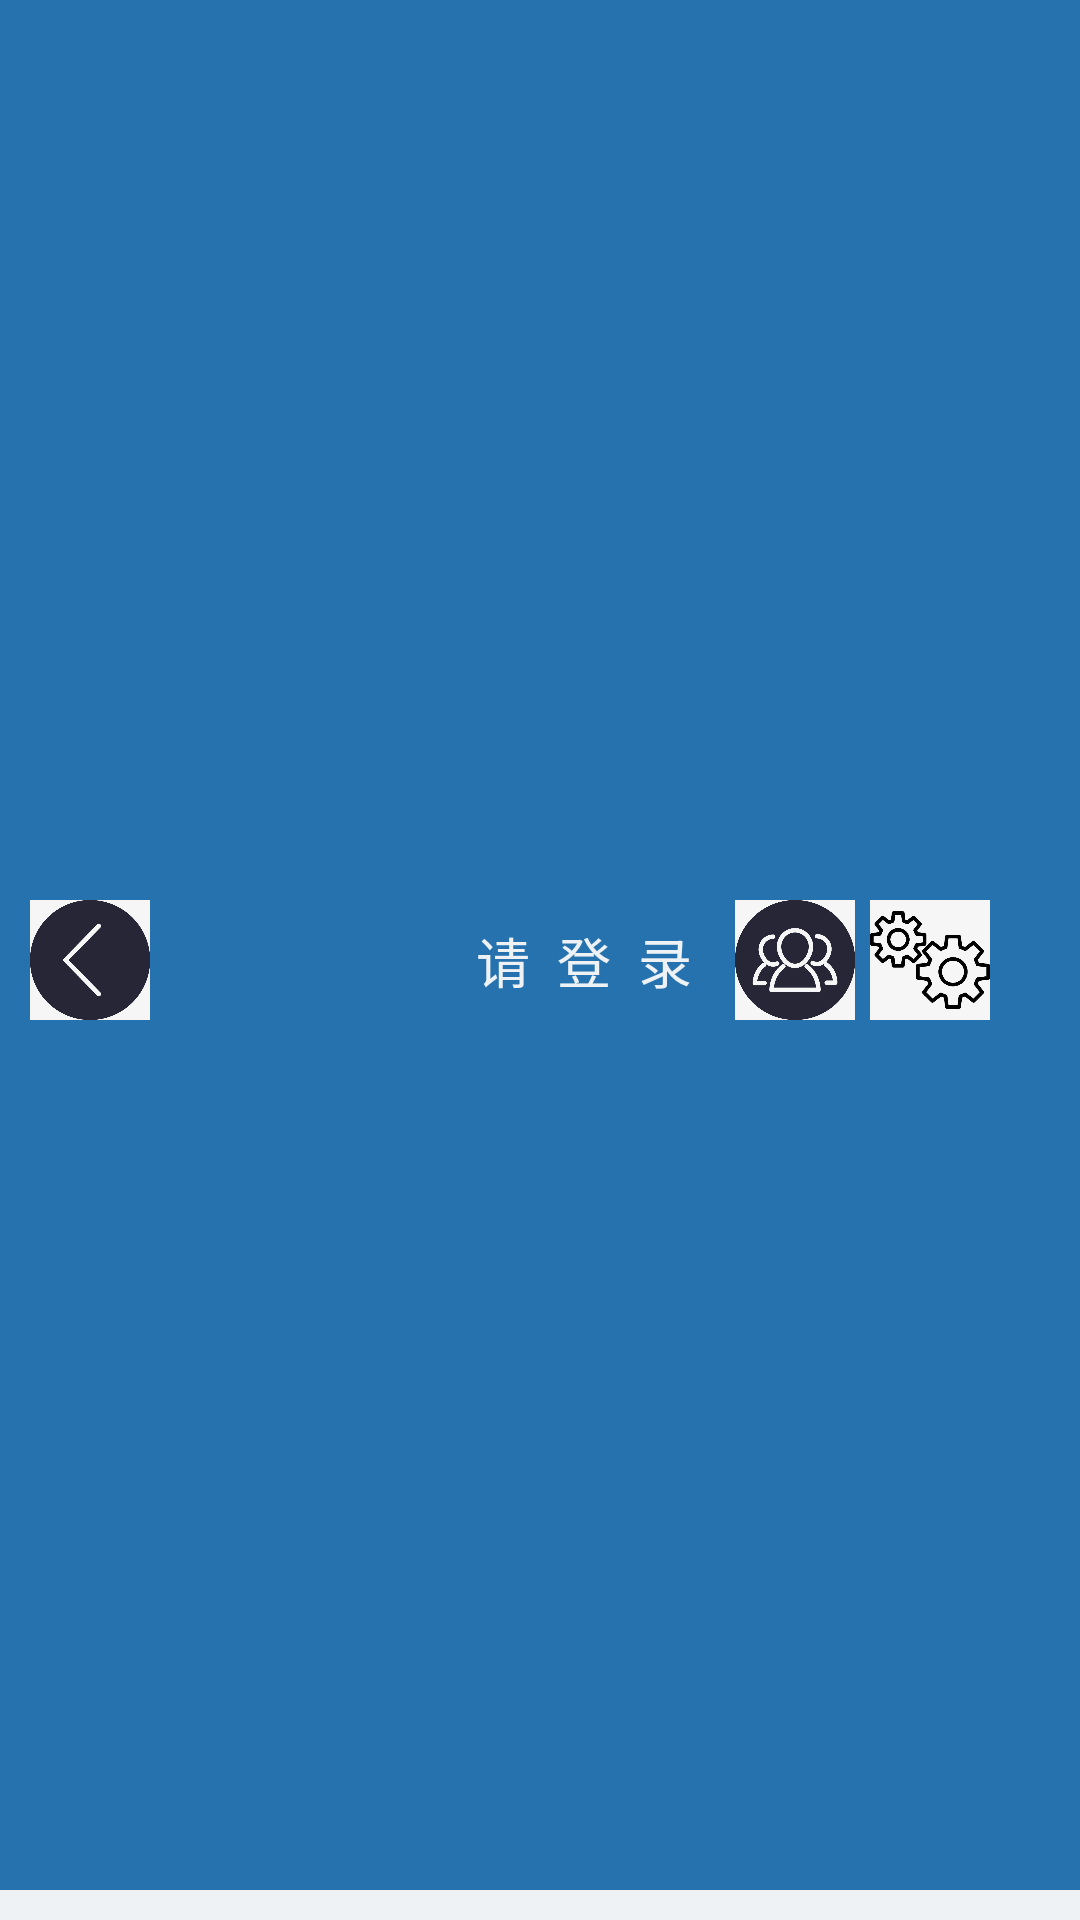

Icon click points for this 1080px x 1920px phone screenshot, format point (x, y):
back: point (90, 960)
staff gear: point (930, 960)
